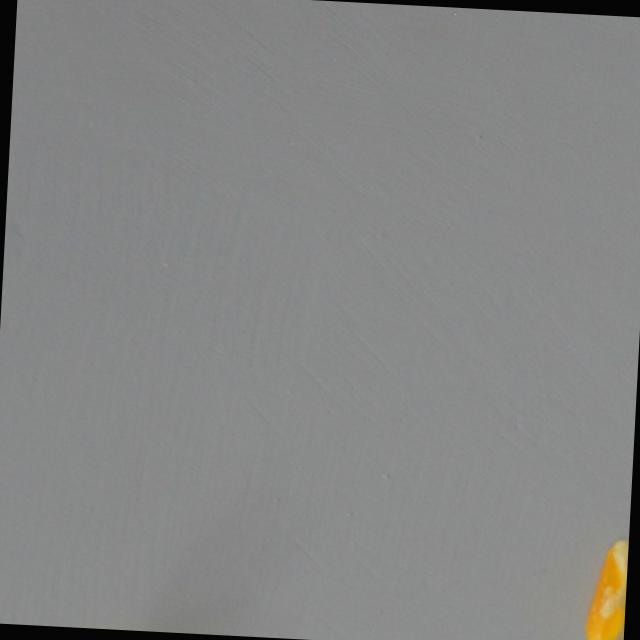punto_negro: (583, 534, 629, 640)
